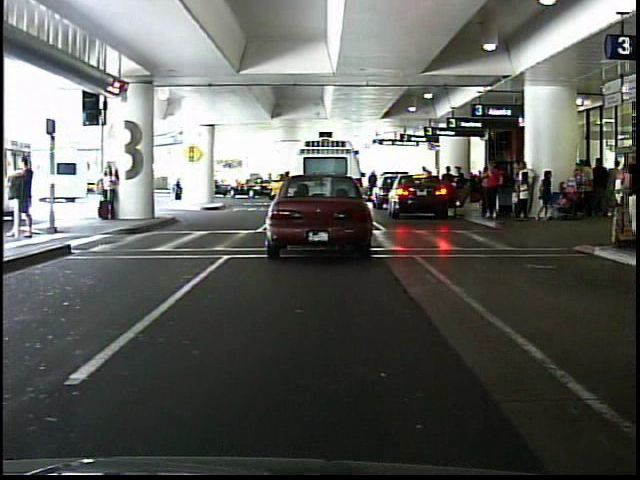person: (617, 144, 640, 255), (11, 151, 37, 242), (98, 159, 122, 221), (483, 161, 503, 222), (163, 161, 190, 204)
